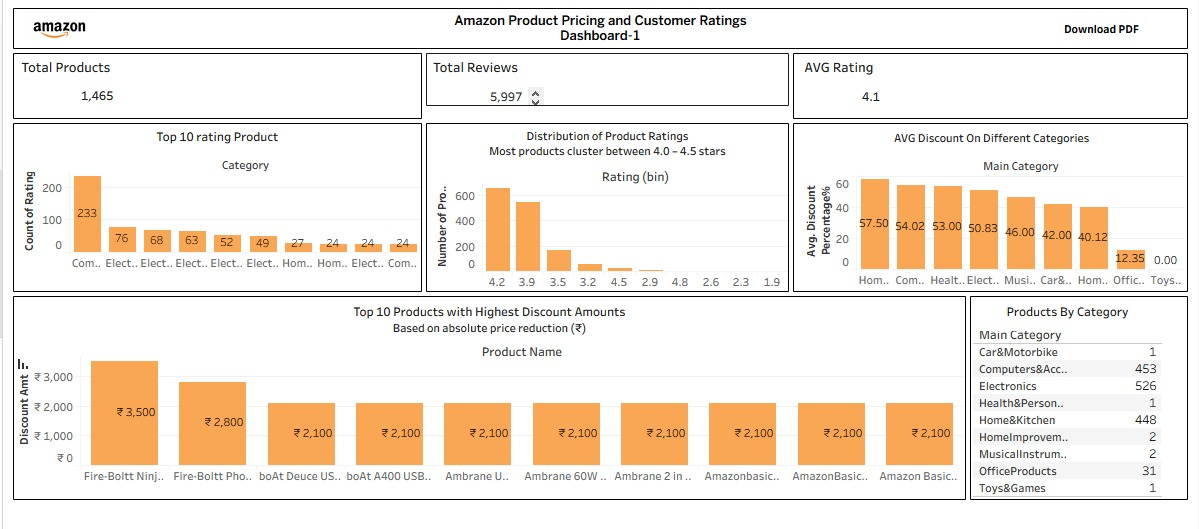

What the dashboard file says about the page in this screenshot:
{"tool":"tableau","page":{"name":"Dashboard 1","canvas":[1000,1000],"units":"permille","ordinal":0},"visuals":[{"type":"title","box":[7.3,14.5,985.3,81.5]},{"type":"image","param":"Image/download.png","box":[18.3,27.2,58.6,54.4]},{"type":"dashboard-object","box":[852.6,29,131.9,50.7]},{"type":"image","param":"Image/download 1.png","box":[357.5,81.5,41.7,41.7]},{"type":"image","param":"Image/download 1.png","box":[631.6,83.3,41.7,41.7]},{"type":"worksheet","title":"Total Products","mark":"Automatic","box":[7.3,96,345.2,126.8]},{"type":"worksheet","title":"Total Reviews","mark":"Automatic","box":[352.6,96,306.8,126.8]},{"type":"worksheet","title":"Average Rating","mark":"Automatic","box":[659.3,96,333.3,126.8]},{"type":"worksheet","title":"Top 10 rating Product","mark":"Automatic","rows":["rating"],"cols":["category"],"box":[7.3,222.8,345.2,313.4]},{"type":"worksheet","title":"Rating Distribution","mark":"Bar","rows":["product_id"],"cols":["Rating (bin)"],"box":[352.6,222.8,306.8,313.4]},{"type":"worksheet","title":"Average Discount%","mark":"Bar","rows":["discount_percentage - Split 1"],"cols":["category - Split 1"],"box":[659.3,222.8,333.3,313.4]},{"type":"worksheet","title":"Top 10 Discounts","mark":"Bar","rows":["discount_amount"],"cols":["product_name"],"box":[7.3,536.2,799.5,376.8]},{"type":"worksheet","title":"Products By Category","mark":"Automatic","rows":["category - Split 1"],"box":[806.8,536.2,185.9,376.8]},{"type":"image","param":"Image/download 1.png","box":[10.9,614.1,41.7,41.7]},{"type":"image","param":"Image/download 1.png","box":[944.6,683,41.7,41.7]},{"type":"image","param":"Image/download 1.png","box":[11.8,933,41.7,41.7]},{"type":"image","param":"Image/download 1.png","box":[521.8,933,41.7,41.7]}]}

Visuals, with their boxes on the dashboard's canvas, which has no fixed pixel size, in thousandths of its width and height (x1, y1, x2, y2). These are canvas units, not pixel positions in the 1199x529 screenshot, which may show the page scaled, cropped or inside an application window:
title: 7, 14, 993, 96
image: 18, 27, 77, 82
dashboard-object: 853, 29, 984, 80
image: 358, 82, 399, 123
image: 632, 83, 673, 125
"Total Products" worksheet: 7, 96, 352, 223
"Total Reviews" worksheet: 353, 96, 659, 223
"Average Rating" worksheet: 659, 96, 993, 223
"Top 10 rating Product" worksheet: 7, 223, 352, 536
"Rating Distribution" worksheet (Bar marks): 353, 223, 659, 536
"Average Discount%" worksheet (Bar marks): 659, 223, 993, 536
"Top 10 Discounts" worksheet (Bar marks): 7, 536, 807, 913
"Products By Category" worksheet: 807, 536, 993, 913
image: 11, 614, 53, 656
image: 945, 683, 986, 725
image: 12, 933, 54, 975
image: 522, 933, 564, 975
